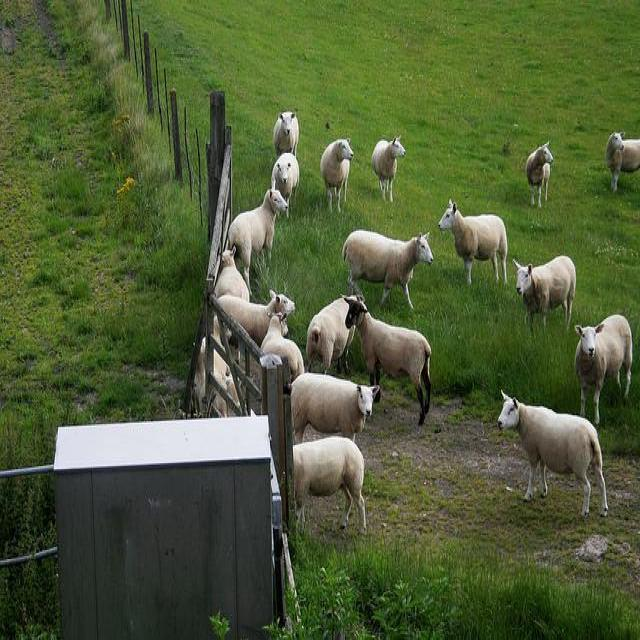Sheep: (212, 111, 612, 520), (344, 298, 431, 426), (293, 436, 367, 537), (343, 231, 433, 310), (229, 177, 288, 294), (288, 372, 381, 446), (438, 200, 512, 290), (574, 314, 633, 426), (513, 255, 577, 340), (306, 294, 365, 378), (371, 136, 406, 202), (605, 130, 639, 190)
